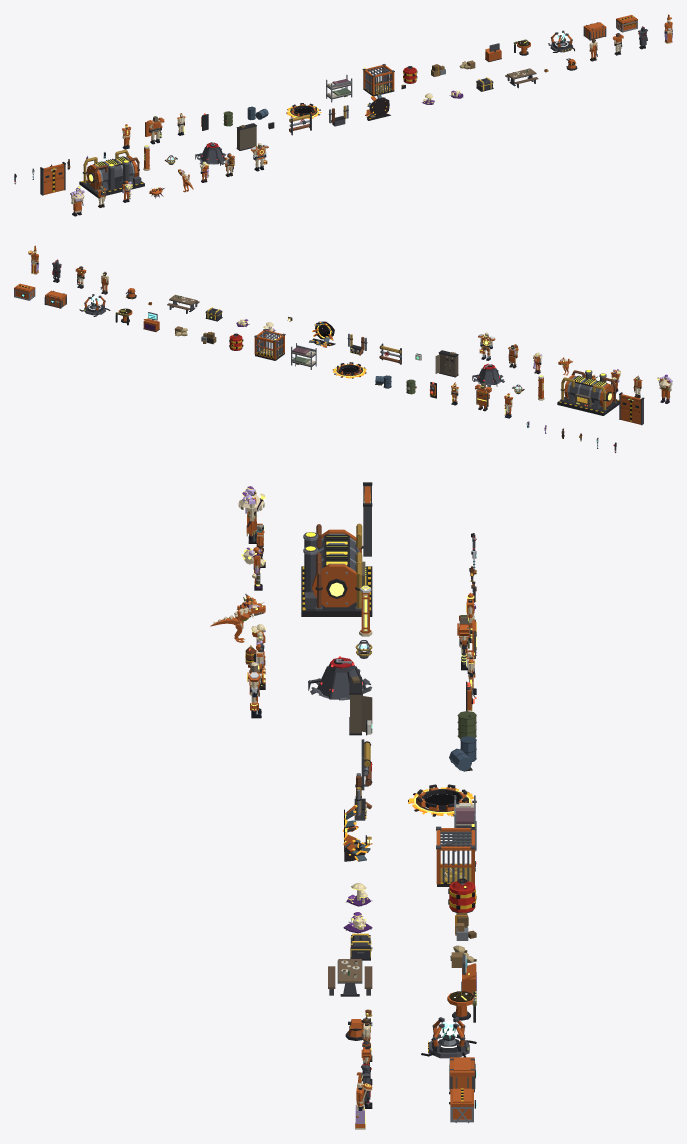
File: boarding.glb
3 views of the same model, one above another, from view 1: azimuth 30°, elevation 25°; view 2: azimuth 150°, elevation 25°; view 3: azimuth 270°, elevation 25° (orthographic). The views are drawn at different scales.
Parts seen in each view (by area): view 1: deck_engine.001, deck_cage_frame, deck_locker.001, deck_hookpod.001, deck_rupture.001, deck_bunk.001, deck_breach.001, deck_table.001, deck_core_cradle, deck_door__leaf_r; view 2: deck_engine.001, deck_cage_frame, deck_locker.001, deck_bunk.001, deck_rupture.001, deck_hookpod.001, deck_breach.001, deck_table.001, deck_core_cradle; view 3: deck_engine.001, deck_cage_frame, deck_hookpod.001, deck_breach.001, deck_table.001, deck_core_cradle, deck_locker.001.
Part boxes in pixels (x1=…): deck_engine.001: x1=79, y1=149, x2=144, y2=197; deck_cage_frame: x1=362, y1=64, x2=394, y2=96; deck_locker.001: x1=236, y1=123, x2=256, y2=150; deck_hookpod.001: x1=195, y1=142, x2=226, y2=165; deck_rupture.001: x1=365, y1=94, x2=390, y2=120; deck_bunk.001: x1=326, y1=74, x2=352, y2=102; deck_breach.001: x1=286, y1=103, x2=321, y2=118; deck_table.001: x1=505, y1=68, x2=538, y2=88; deck_core_cradle: x1=548, y1=30, x2=574, y2=52; deck_door__leaf_r: x1=51, y1=163, x2=64, y2=192; deck_engine.001: x1=557, y1=370, x2=619, y2=415; deck_cage_frame: x1=254, y1=329, x2=285, y2=360; deck_locker.001: x1=435, y1=350, x2=458, y2=377; deck_bunk.001: x1=291, y1=343, x2=316, y2=369; deck_rupture.001: x1=308, y1=321, x2=335, y2=347; deck_hookpod.001: x1=472, y1=363, x2=504, y2=387; deck_breach.001: x1=332, y1=362, x2=366, y2=378; deck_table.001: x1=167, y1=294, x2=199, y2=313; deck_core_cradle: x1=79, y1=294, x2=110, y2=316; deck_engine.001: x1=301, y1=523, x2=372, y2=616; deck_cage_frame: x1=436, y1=824, x2=475, y2=886; deck_hookpod.001: x1=308, y1=656, x2=372, y2=700; deck_breach.001: x1=408, y1=784, x2=476, y2=816; deck_table.001: x1=328, y1=959, x2=372, y2=996; deck_core_cradle: x1=421, y1=1017, x2=476, y2=1058; deck_locker.001: x1=349, y1=676, x2=372, y2=735.
Size of the model in its own units: 59.93 by 3.56 by 11.25.
